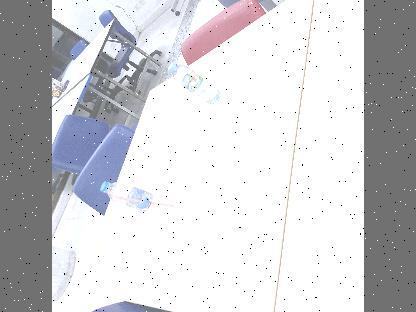Plastic Bottle: (99, 180, 175, 218), (166, 62, 222, 105)
